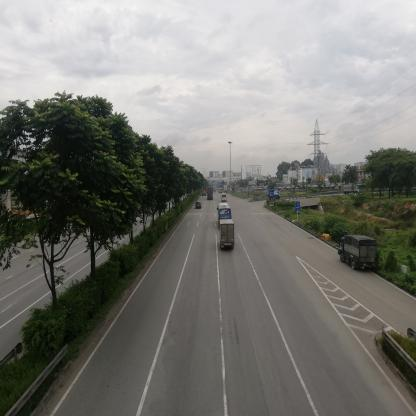bus: (218, 203, 232, 220)
car: (195, 202, 203, 211)
truck: (339, 234, 379, 272), (220, 220, 235, 247), (340, 185, 362, 195), (277, 190, 283, 199)
